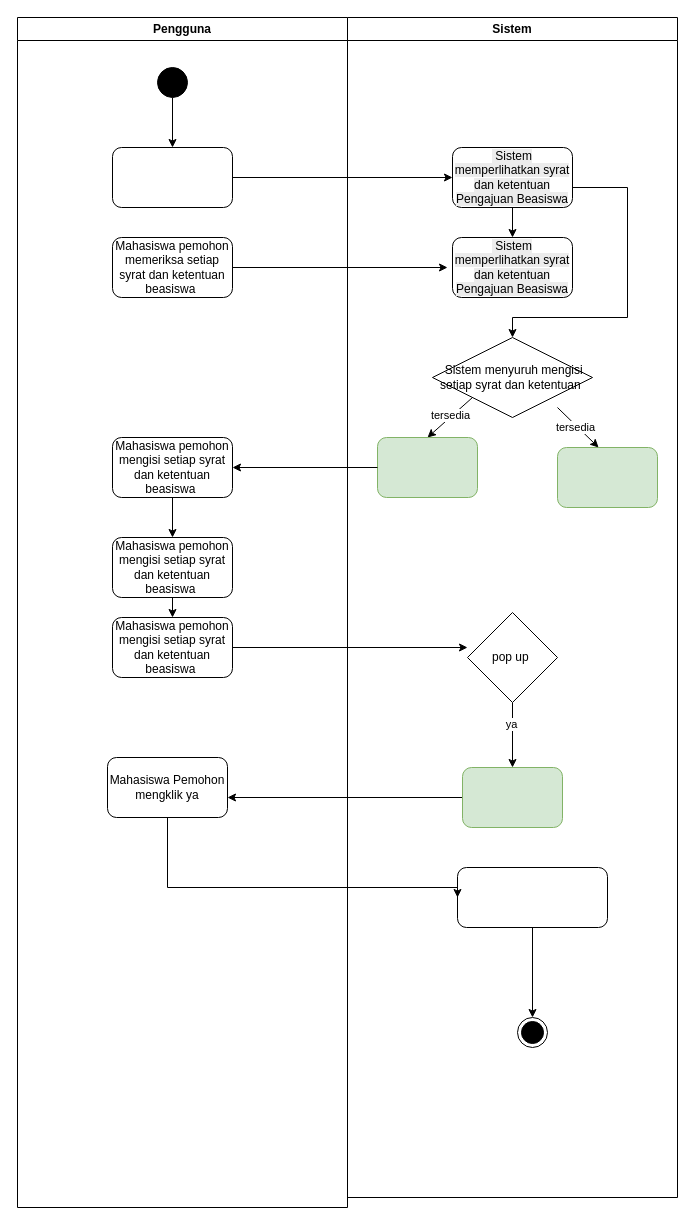
This 695x1225 diagram has some shape labels left out. Each missing label, with the centre of its shape:
Mahasiswa baru Melampirkan Bukti Kelulusan SMA: the point at 427,467
Mahasiswa Lama Melampirkan Transkip Nilai: the point at 607,477
Mahasiswa pemohon Mengajukan Basiswa: the point at 172,177
Sistem Memunculkan pop up berhasil di ajukan: the point at 512,797
Sistem Menunjukan bahwa pengajuan menunggu validasi: the point at 532,897
